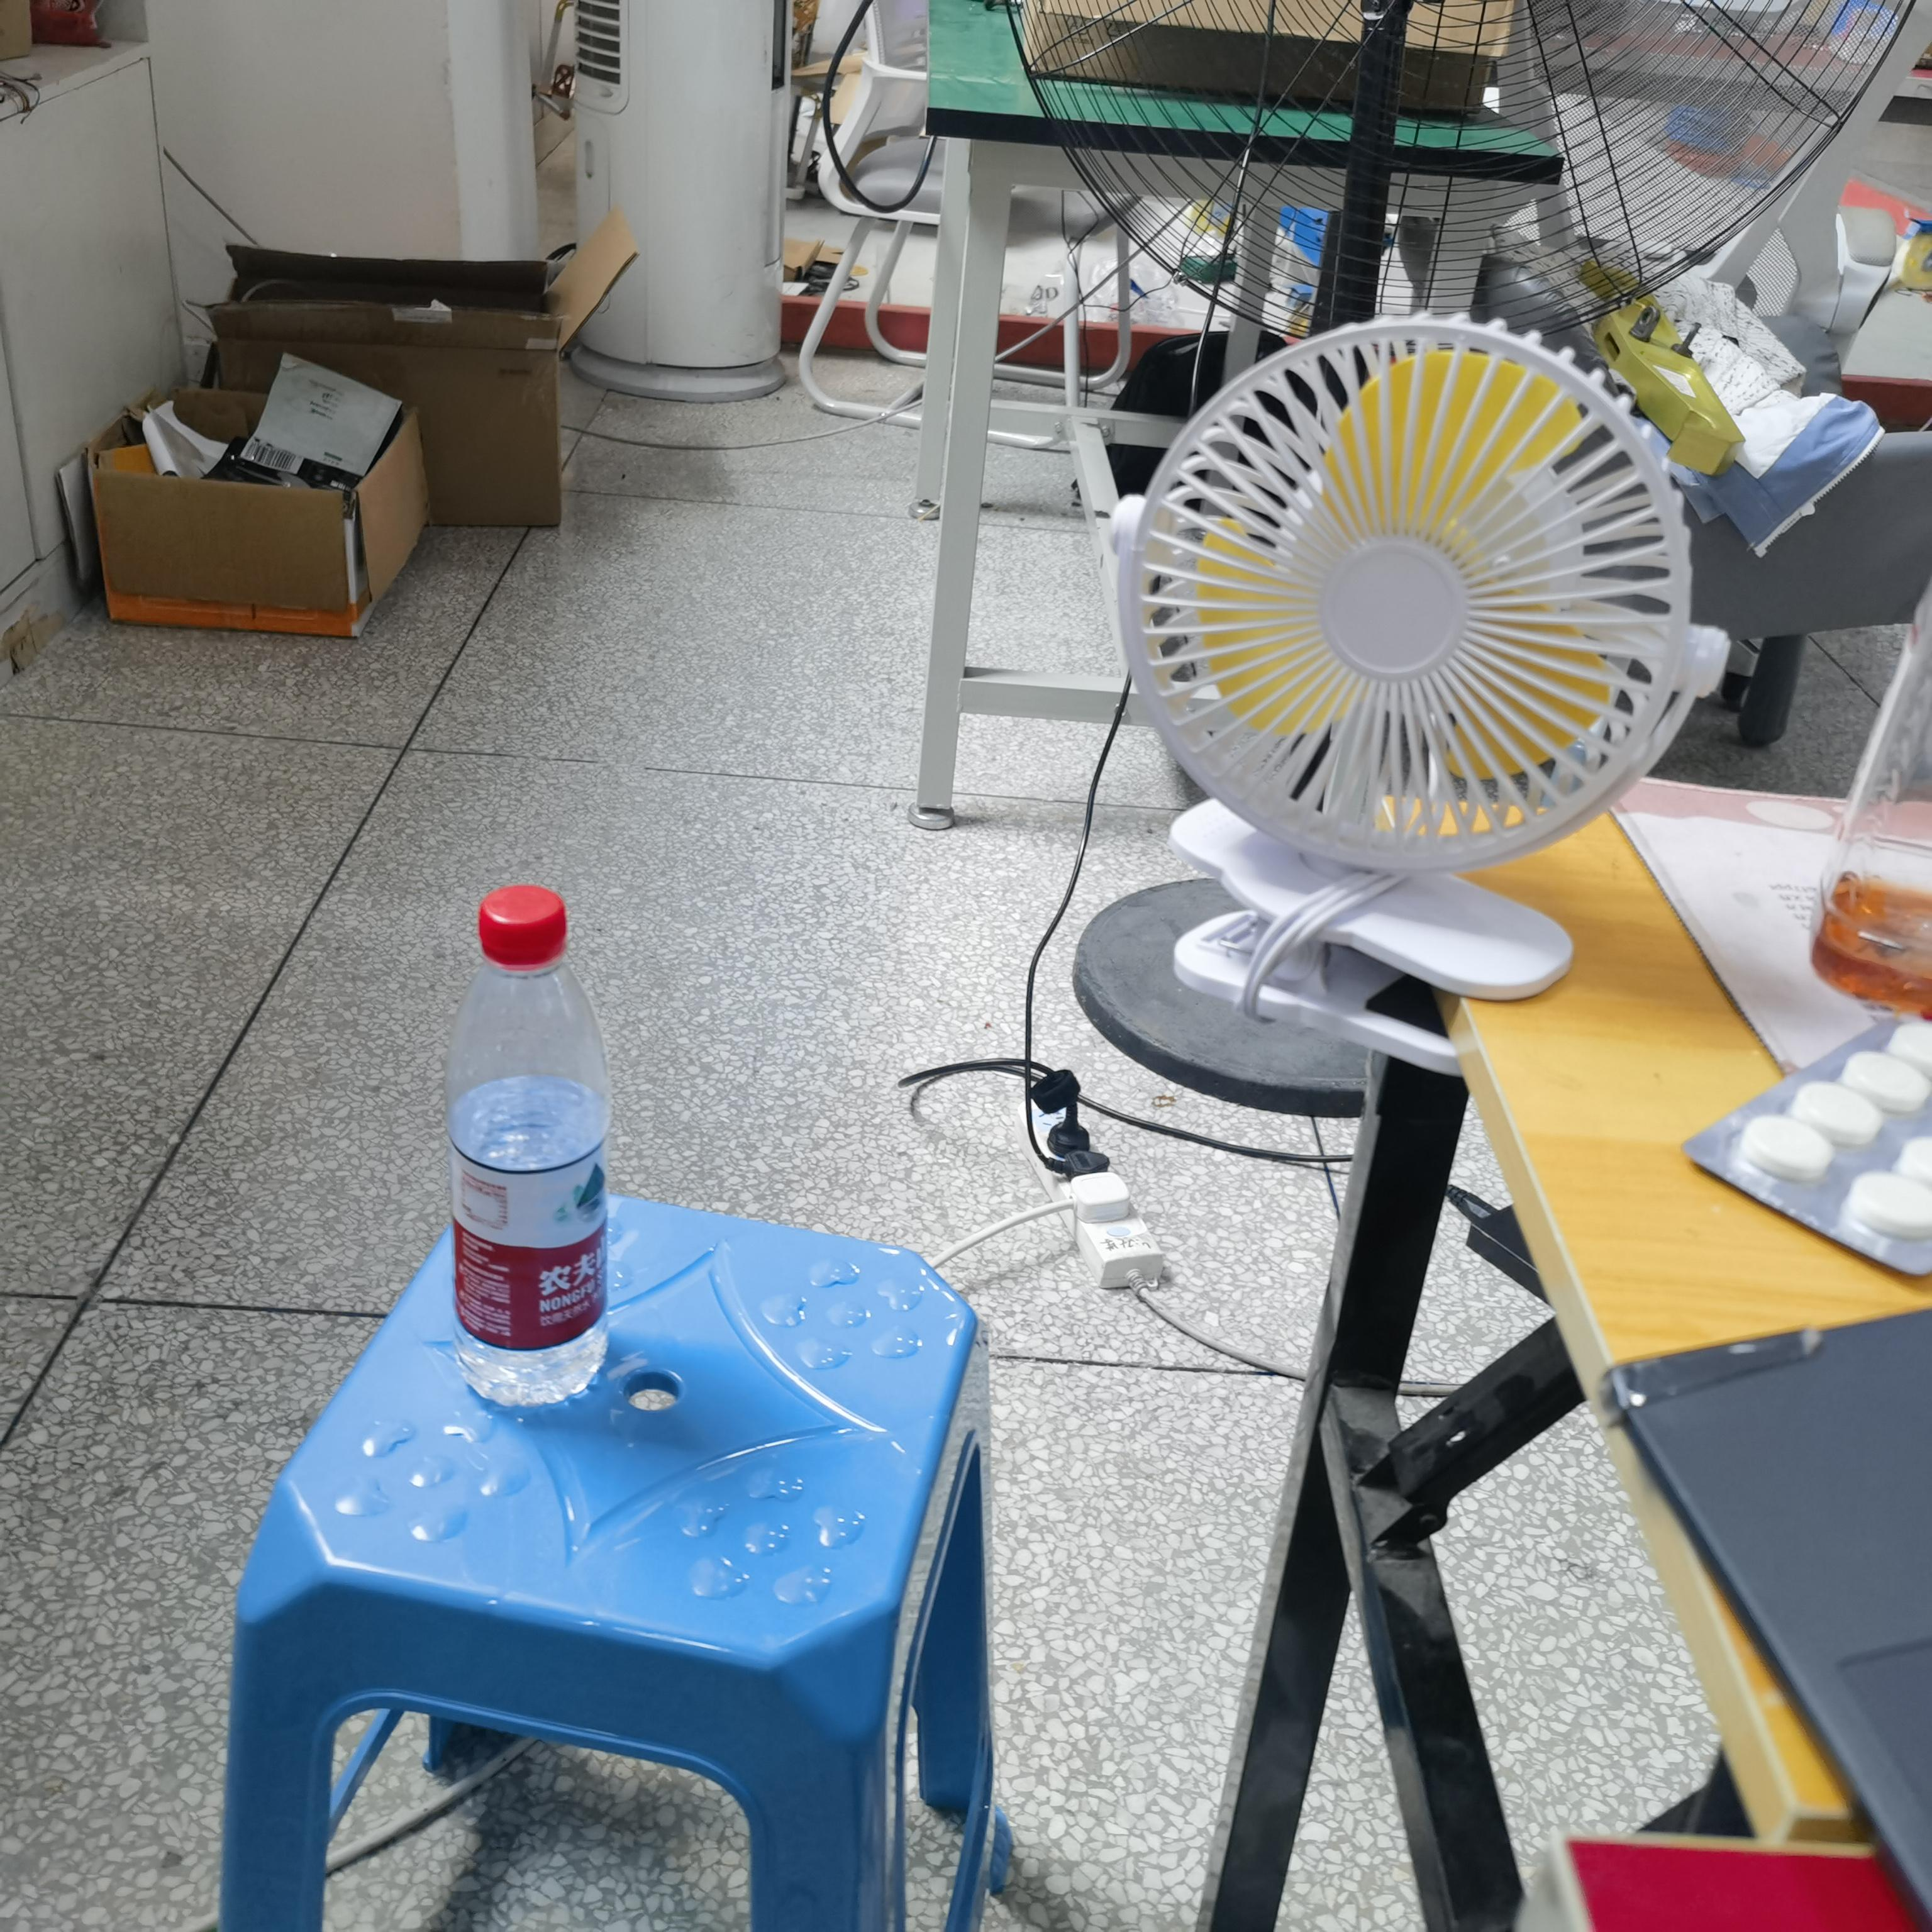bottle: (434, 875, 637, 1445)
fan: (1097, 306, 1743, 1091)
